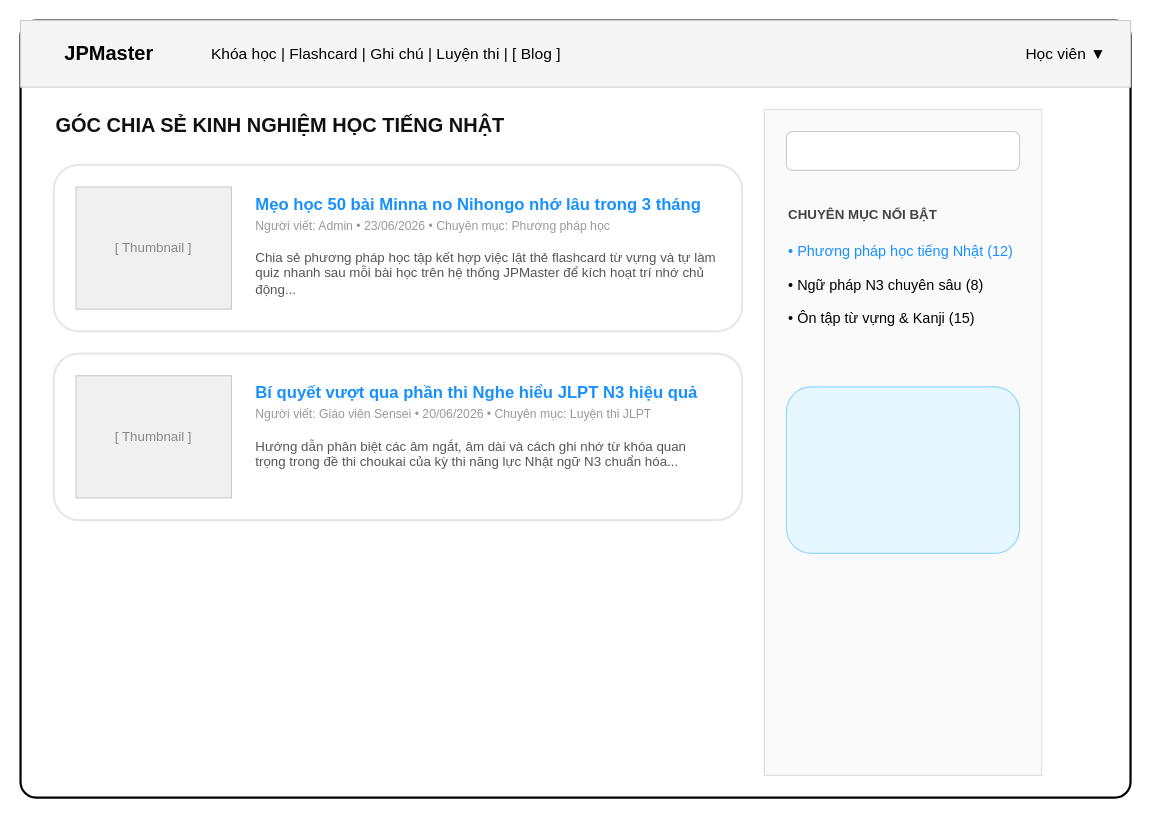
Some shapes in this 1150 by 817 pixel diagram are drawn without their labels. The centre of each missing label's shape, as x and y in pixels:
"QUẢNG CÁO Khóa học JLPT N3 Ưu đãi 50% hôm nay! [ Xem ngay ]" belongs at (902,469).
"🔍 Tìm kiếm bài viết..." belongs at (902,150).
